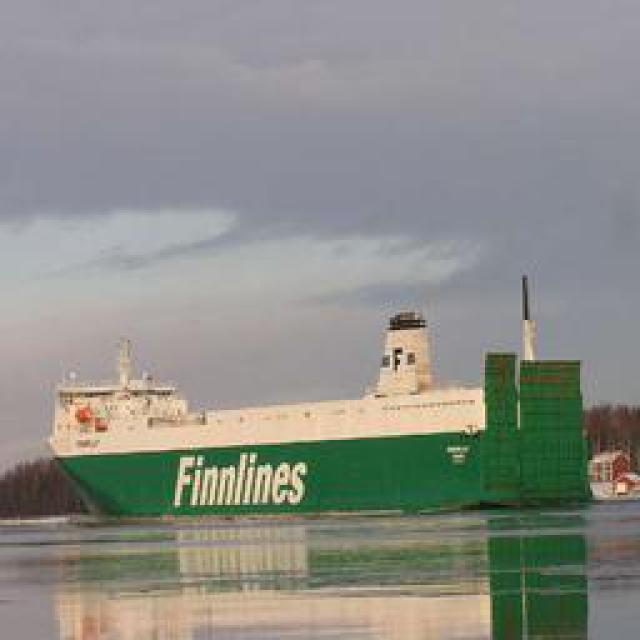Ship: (46, 335, 634, 520)
